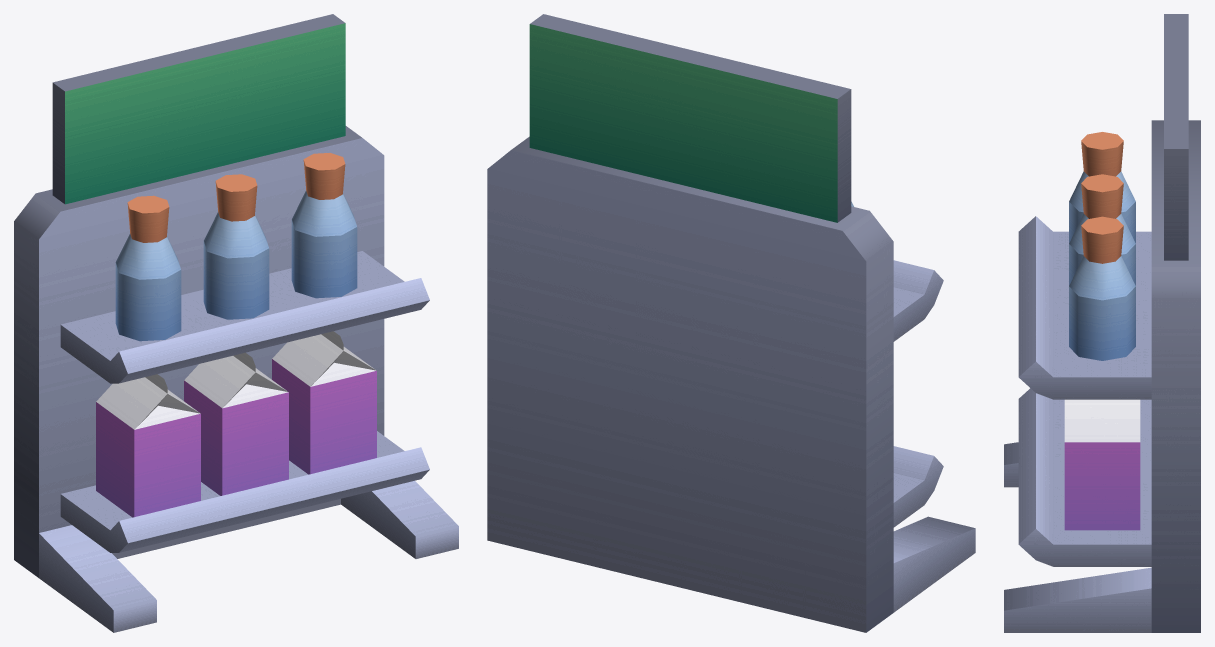
The model's file is shelf-end.glb.
3 renders of one model, left to right at view 1: azimuth 30°, elevation 25°; view 2: azimuth 150°, elevation 25°; view 3: azimuth 270°, elevation 25°, orthographic. The views are drawn at different scales.
Visible parts, largest first — view 1: shelf-end, Group, carton_2, carton, carton_1, bottle, bottle_1, bottle_2; view 2: shelf-end, Group; view 3: shelf-end, carton, bottle, Group, bottle_1, bottle_2.
Part boxes in pixels (<box>): shelf-end: <box>14,126,458,632</box>; Group: <box>52,14,345,204</box>; carton_2: <box>96,374,200,517</box>; carton: <box>272,331,376,474</box>; carton_1: <box>184,352,288,495</box>; bottle: <box>291,153,357,298</box>; bottle_1: <box>203,174,269,319</box>; bottle_2: <box>115,195,181,341</box>; shelf-end: <box>487,136,975,632</box>; Group: <box>529,14,851,222</box>; shelf-end: <box>1004,120,1200,632</box>; carton: <box>1064,399,1140,530</box>; bottle: <box>1069,216,1135,360</box>; Group: <box>1164,14,1188,260</box>; bottle_1: <box>1069,174,1135,285</box>; bottle_2: <box>1069,132,1135,243</box>.
Bounding box in the file's own units: 0.8 × 1.05 × 0.4.
Materials: 1 (1 with a texture image).
